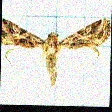Spodoptera litura: (1, 16, 110, 88)
